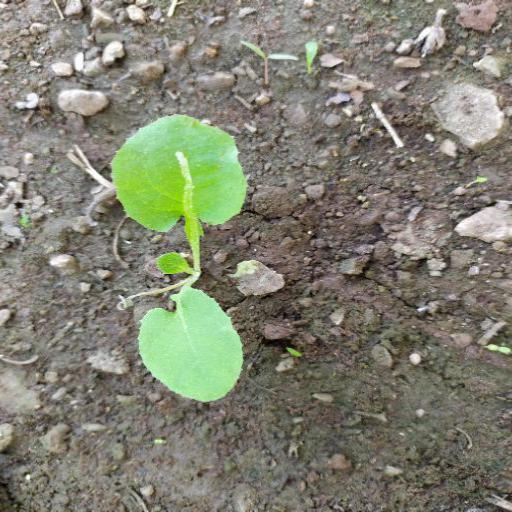weed: (100, 109, 252, 413)
